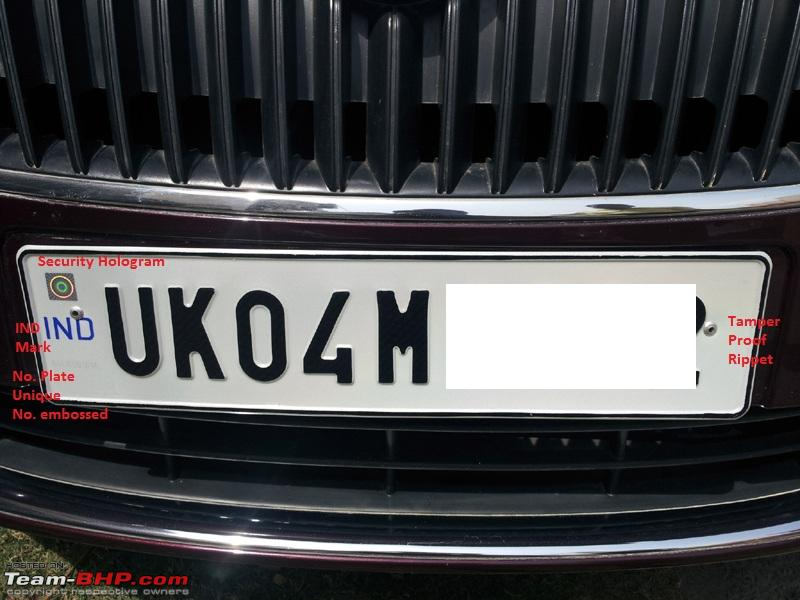number_plate: (13, 237, 769, 421)
